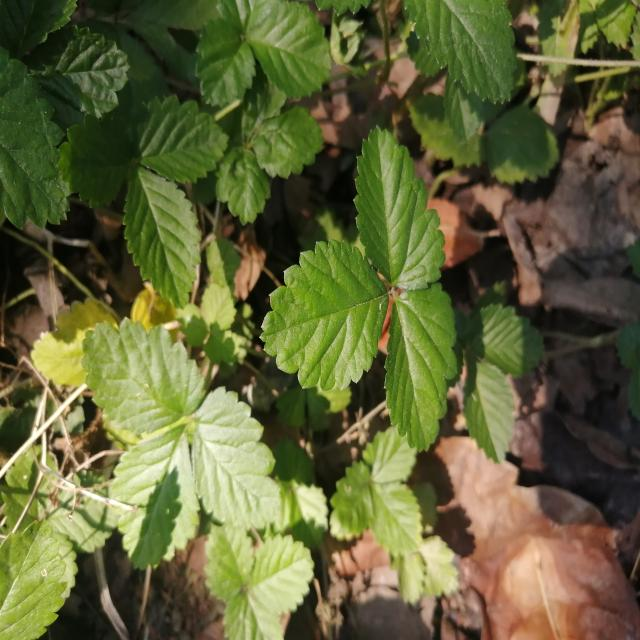Mock_strawberry: (272, 99, 481, 436), (76, 308, 276, 543)
